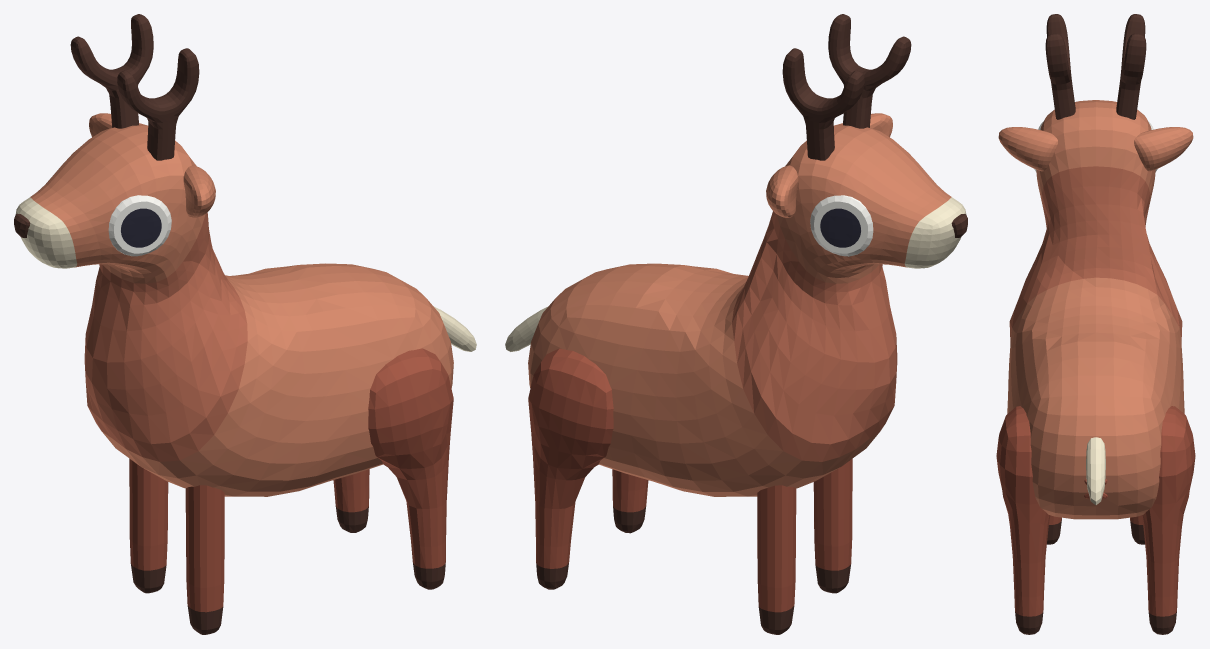
Rendered from Reindeer_LOD0.fbx.
The picture shows the model from 3 angles, left to right: view 1: azimuth 30°, elevation 25°; view 2: azimuth 150°, elevation 25°; view 3: azimuth 270°, elevation 25°; orthographic projection. The views are drawn at different scales.
Visible parts, largest first — view 1: Mesh; view 2: Mesh; view 3: Mesh.
Boxes of the visible parts, left/top/right/bottom form: Mesh: left=14, top=14, right=476, bottom=634; Mesh: left=505, top=14, right=967, bottom=634; Mesh: left=996, top=14, right=1195, bottom=634.
Bounding box in the file's own units: 261 × 315 × 113.
Materials: 1 (1 with a texture image).
